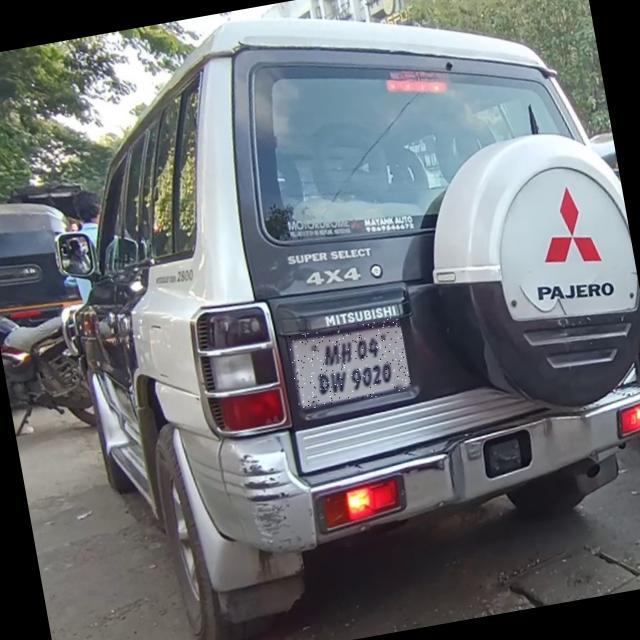Plate: (288, 316, 413, 411)
